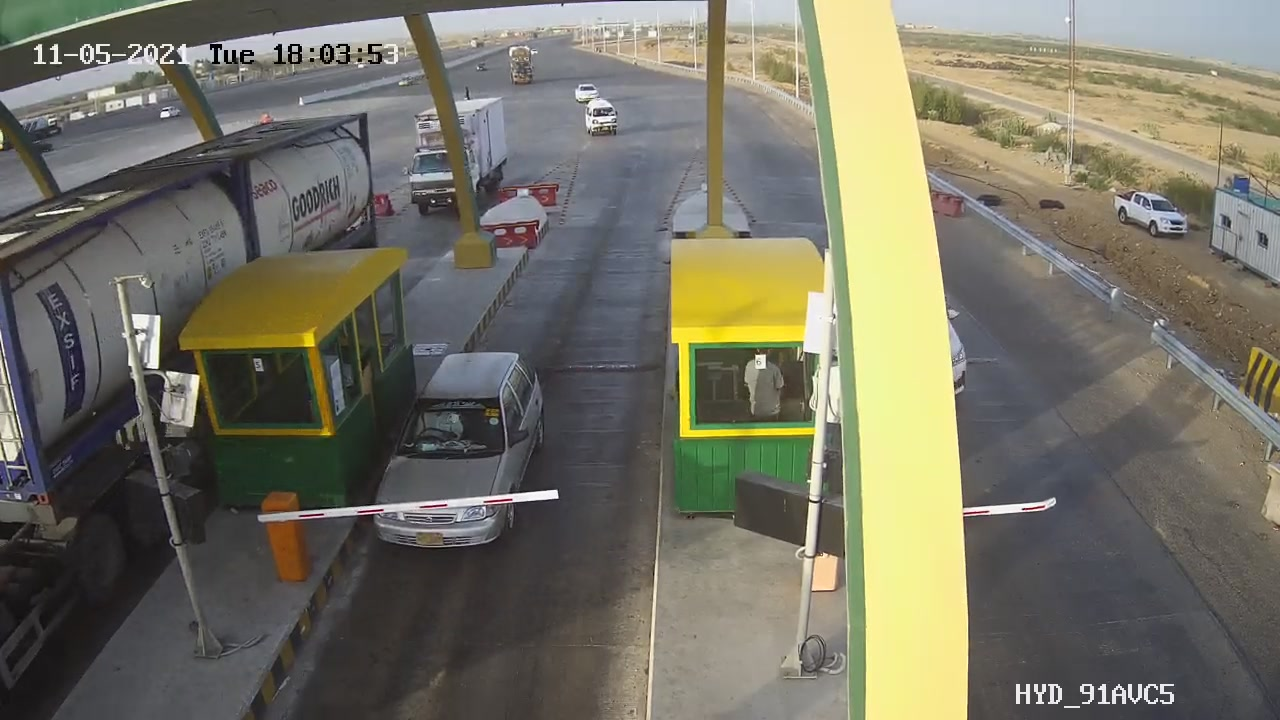F1: (356, 331, 567, 569)
